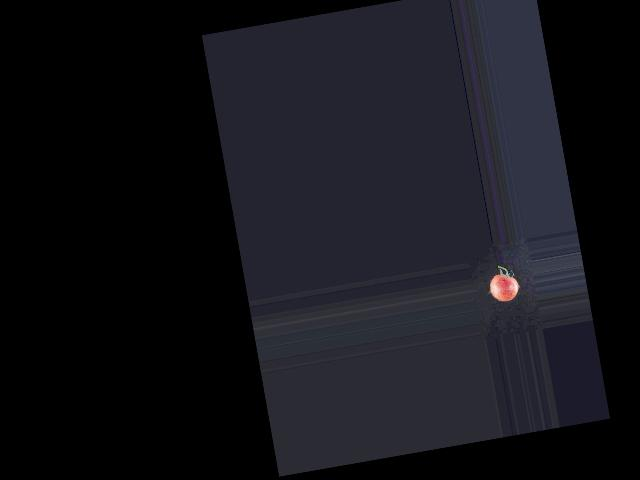tomato: (487, 271, 520, 303)
